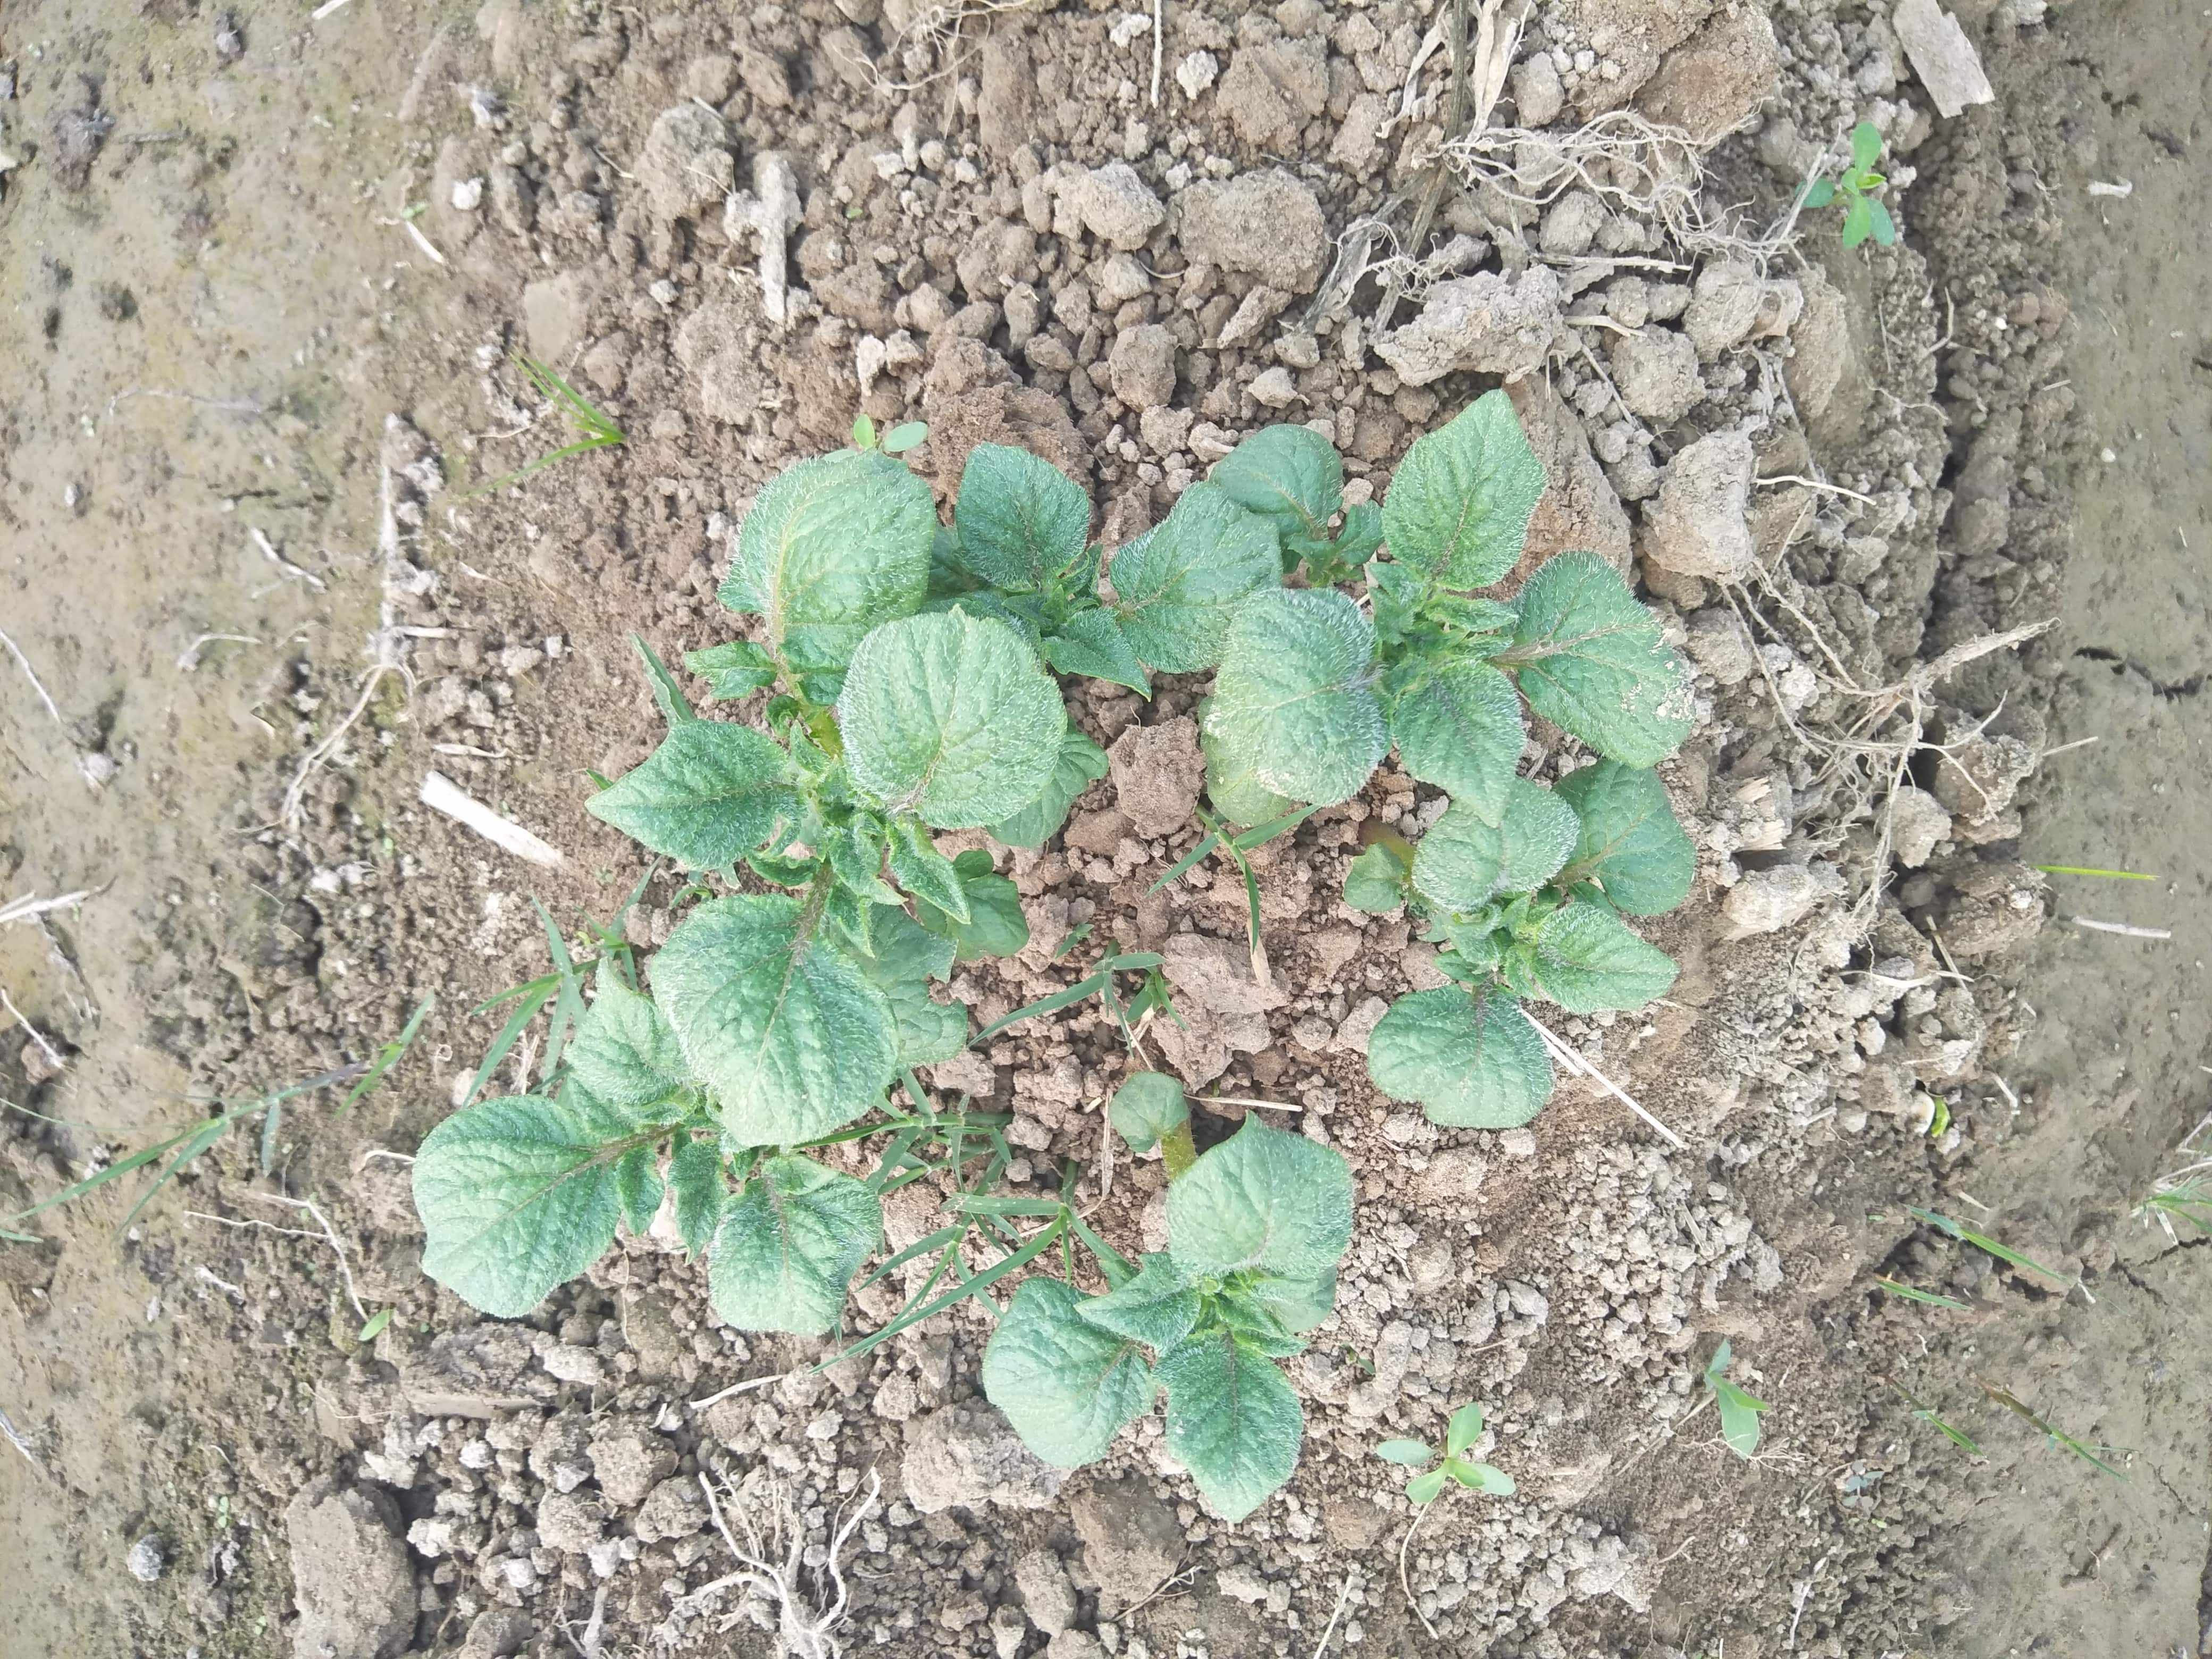daun: (660, 896, 892, 1140), (418, 1096, 624, 1312), (841, 620, 1057, 819), (723, 450, 932, 645), (1205, 582, 1383, 796), (1526, 563, 1703, 770), (1090, 476, 1278, 660), (981, 1283, 1150, 1478), (583, 727, 812, 859), (1383, 397, 1533, 582), (1172, 1127, 1353, 1279), (1374, 981, 1555, 1127), (1158, 1324, 1294, 1518), (716, 1164, 871, 1324), (941, 439, 1092, 601), (1383, 638, 1519, 816), (1404, 777, 1585, 899), (557, 978, 697, 1131), (1512, 903, 1674, 1009), (1581, 770, 1691, 903), (1216, 420, 1341, 525), (892, 826, 970, 922)
